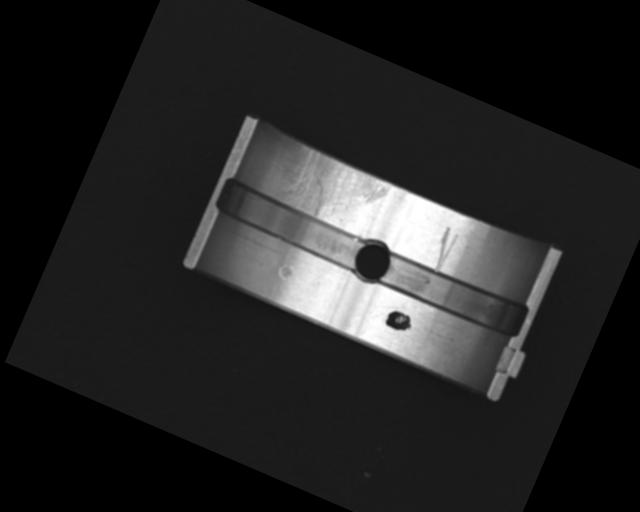blot: (383, 307, 416, 337)
bruise: (276, 261, 295, 281)
gap: (211, 174, 370, 272), (379, 250, 529, 341)
hole: (347, 234, 397, 289)
nick: (426, 225, 461, 276)
scratch: (274, 141, 393, 241)
